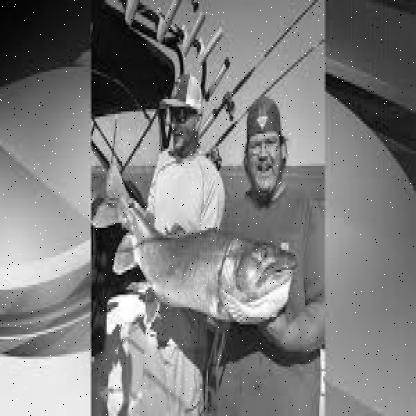fish: (88, 160, 298, 324)
